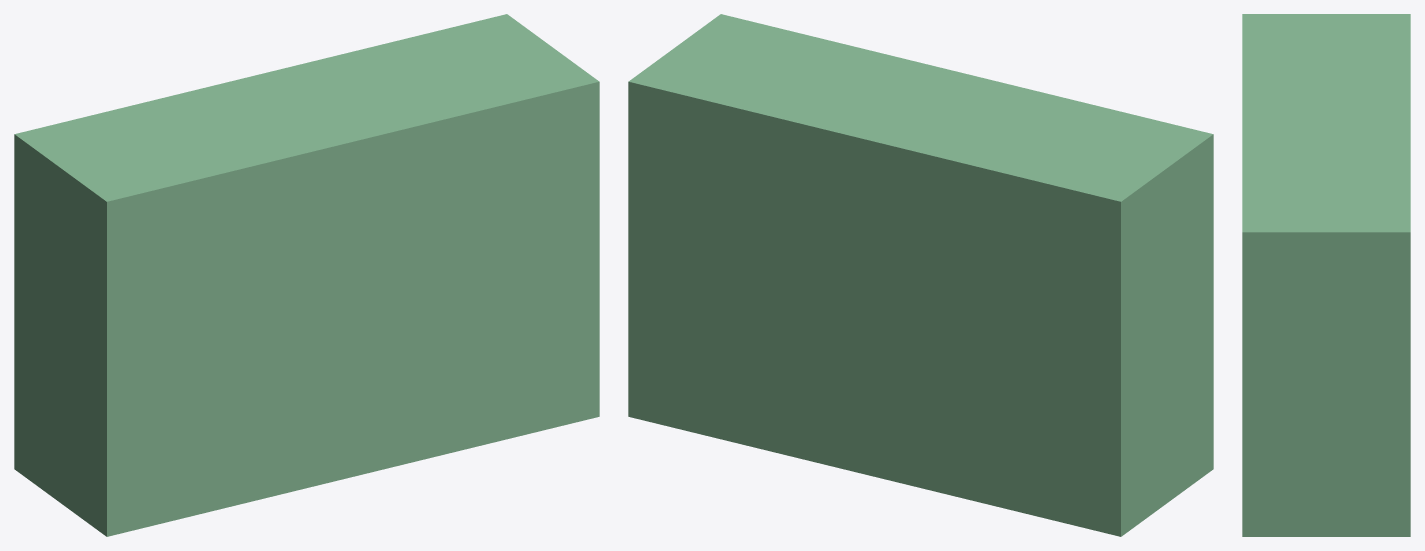
File: hedge.glb
3 views of the same model, side by side, from view 1: azimuth 30°, elevation 25°; view 2: azimuth 150°, elevation 25°; view 3: azimuth 270°, elevation 25° (orthographic). The views are drawn at different scales.
Parts seen in each view (by area): view 1: hedge_000; view 2: hedge_000; view 3: hedge_000.
Part boxes in pixels (box(x1,y1,x2,y2)): hedge_000: box(14, 14, 599, 536); hedge_000: box(628, 14, 1213, 536); hedge_000: box(1242, 14, 1410, 536).
Size of the model in its own units: 2 by 1.3 by 0.65.
